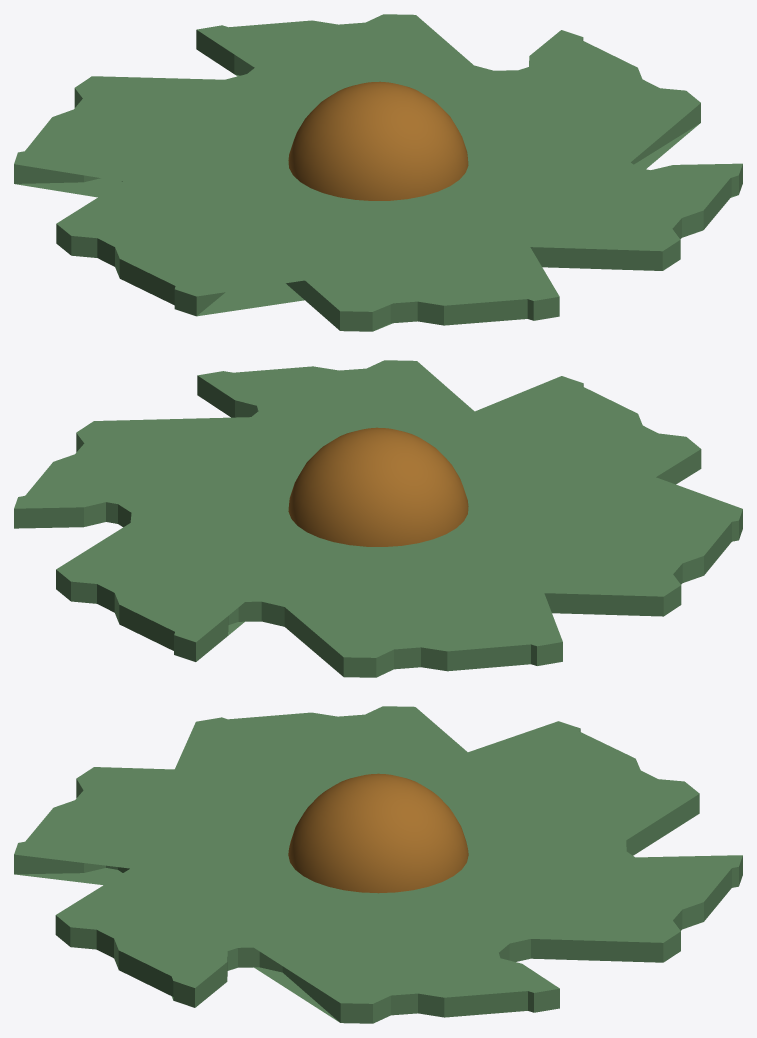
The model's file is Earth_Blade6.fbx.
3 views of the same model, one above another, from view 1: azimuth 30°, elevation 25°; view 2: azimuth 150°, elevation 25°; view 3: azimuth 270°, elevation 25° (orthographic).
Visible parts, largest first — view 1: Vert.018, Sphere.015; view 2: Vert.018, Sphere.015; view 3: Vert.018, Sphere.015.
Boxes of the visible parts, box(x1,y1,x2,y2) form: Vert.018: box(14, 14, 742, 331); Sphere.015: box(288, 81, 468, 200); Vert.018: box(14, 360, 742, 677); Sphere.015: box(288, 427, 468, 546); Vert.018: box(14, 706, 742, 1023); Sphere.015: box(288, 773, 468, 893).
Bounding box in the file's own units: 96.44 × 25 × 99.8.
